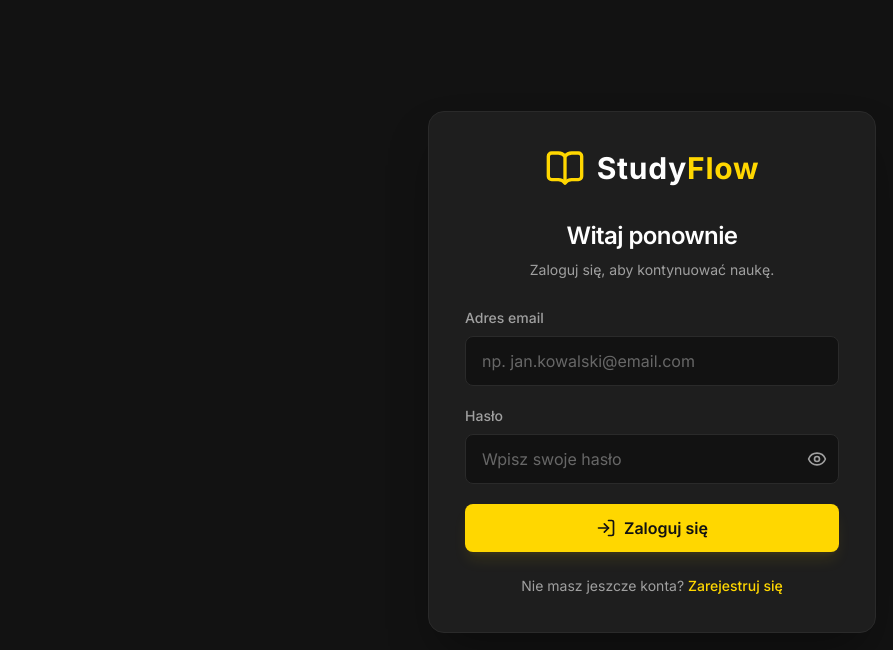
Scenario: LoginPage › authenticates with the session cookie and enters the dashboard
This screenshot has width=893, height=650.
Type "ada@example.com" into the field labelled "Adres email" at (652, 361), box [465,336,839,386]
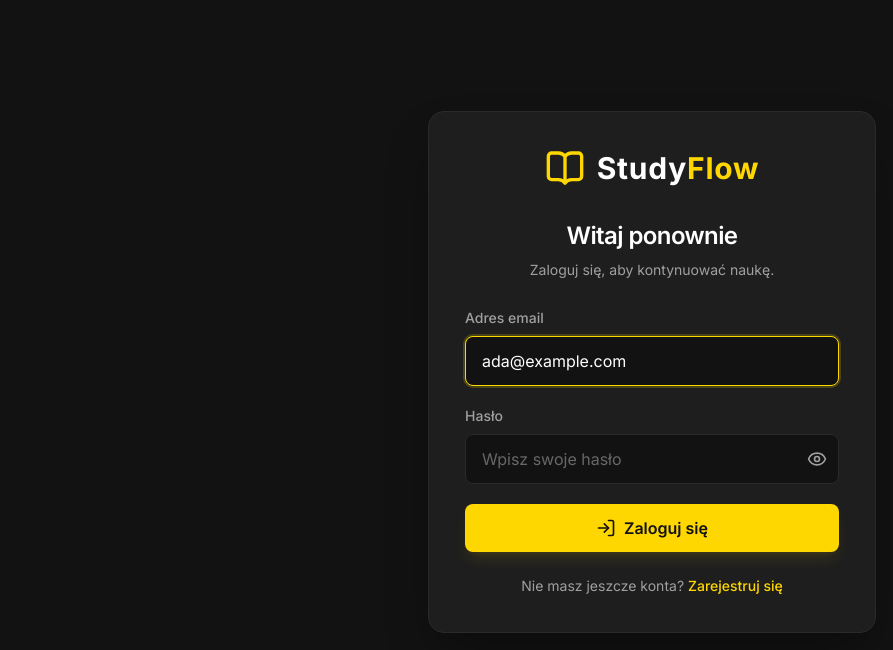
Type "Password1" into the password field labelled "Hasło" at (652, 459), box [465,434,839,484]
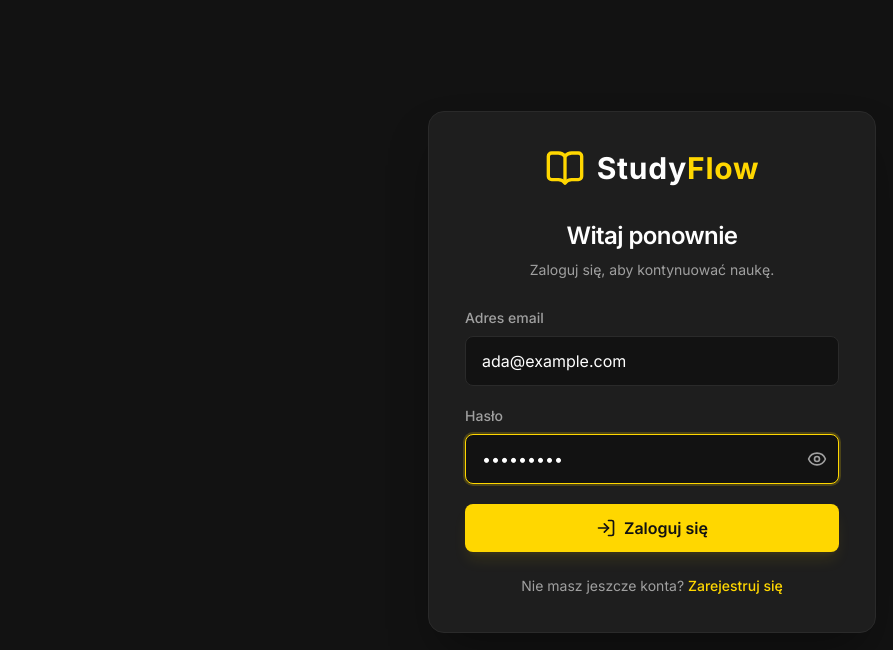
Click the button "Zaloguj się" at (652, 528), box [465,504,839,552]
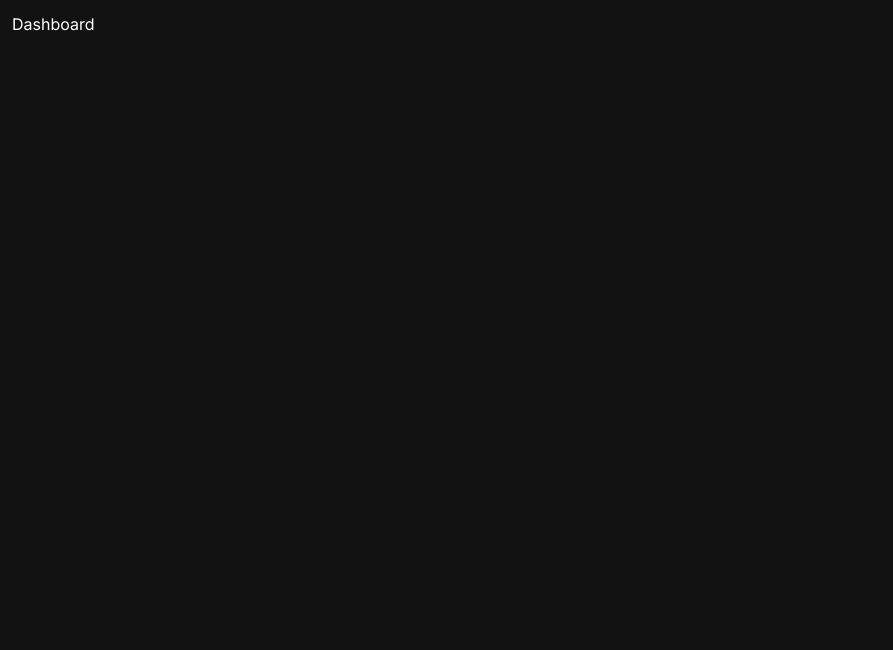
Expected: the text "Dashboard" is shown, [12,14,94,34]
